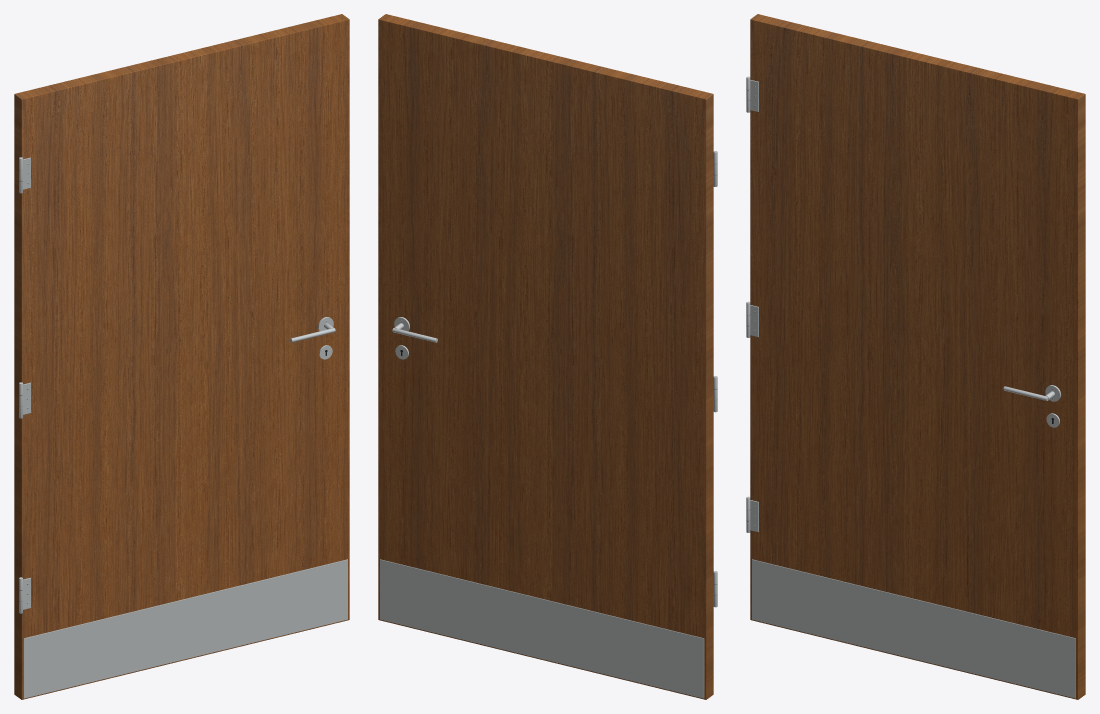
Rendered from clubhouse_door_front_1140.glb.
The picture shows the model from 3 angles, left to right: view 1: azimuth 30°, elevation 25°; view 2: azimuth 150°, elevation 25°; view 3: azimuth 330°, elevation 25°; orthographic projection.
Visible parts, largest first — view 1: ReferenceMatchedSatinTimber, BrushedStainlessSteel; view 2: ReferenceMatchedSatinTimber, BrushedStainlessSteel; view 3: ReferenceMatchedSatinTimber, BrushedStainlessSteel.
Boxes of the visible parts, x1,y1,x2,y2 form: ReferenceMatchedSatinTimber: (14, 14, 349, 699); BrushedStainlessSteel: (19, 157, 347, 698); ReferenceMatchedSatinTimber: (378, 14, 713, 699); BrushedStainlessSteel: (380, 151, 717, 698); ReferenceMatchedSatinTimber: (750, 14, 1085, 699); BrushedStainlessSteel: (746, 76, 1075, 698).
Bounding box in the file's own units: 1.15 × 2 × 0.1494.
3 materials, 1 textured.
